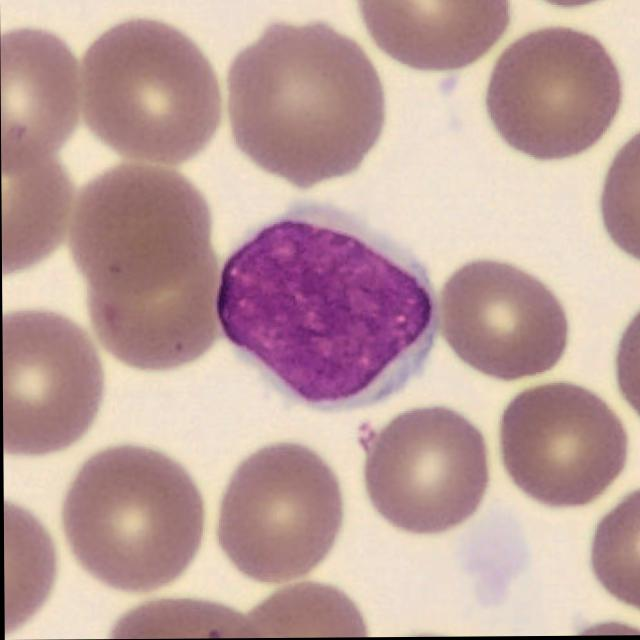Linfocito: (217, 208, 439, 414)
